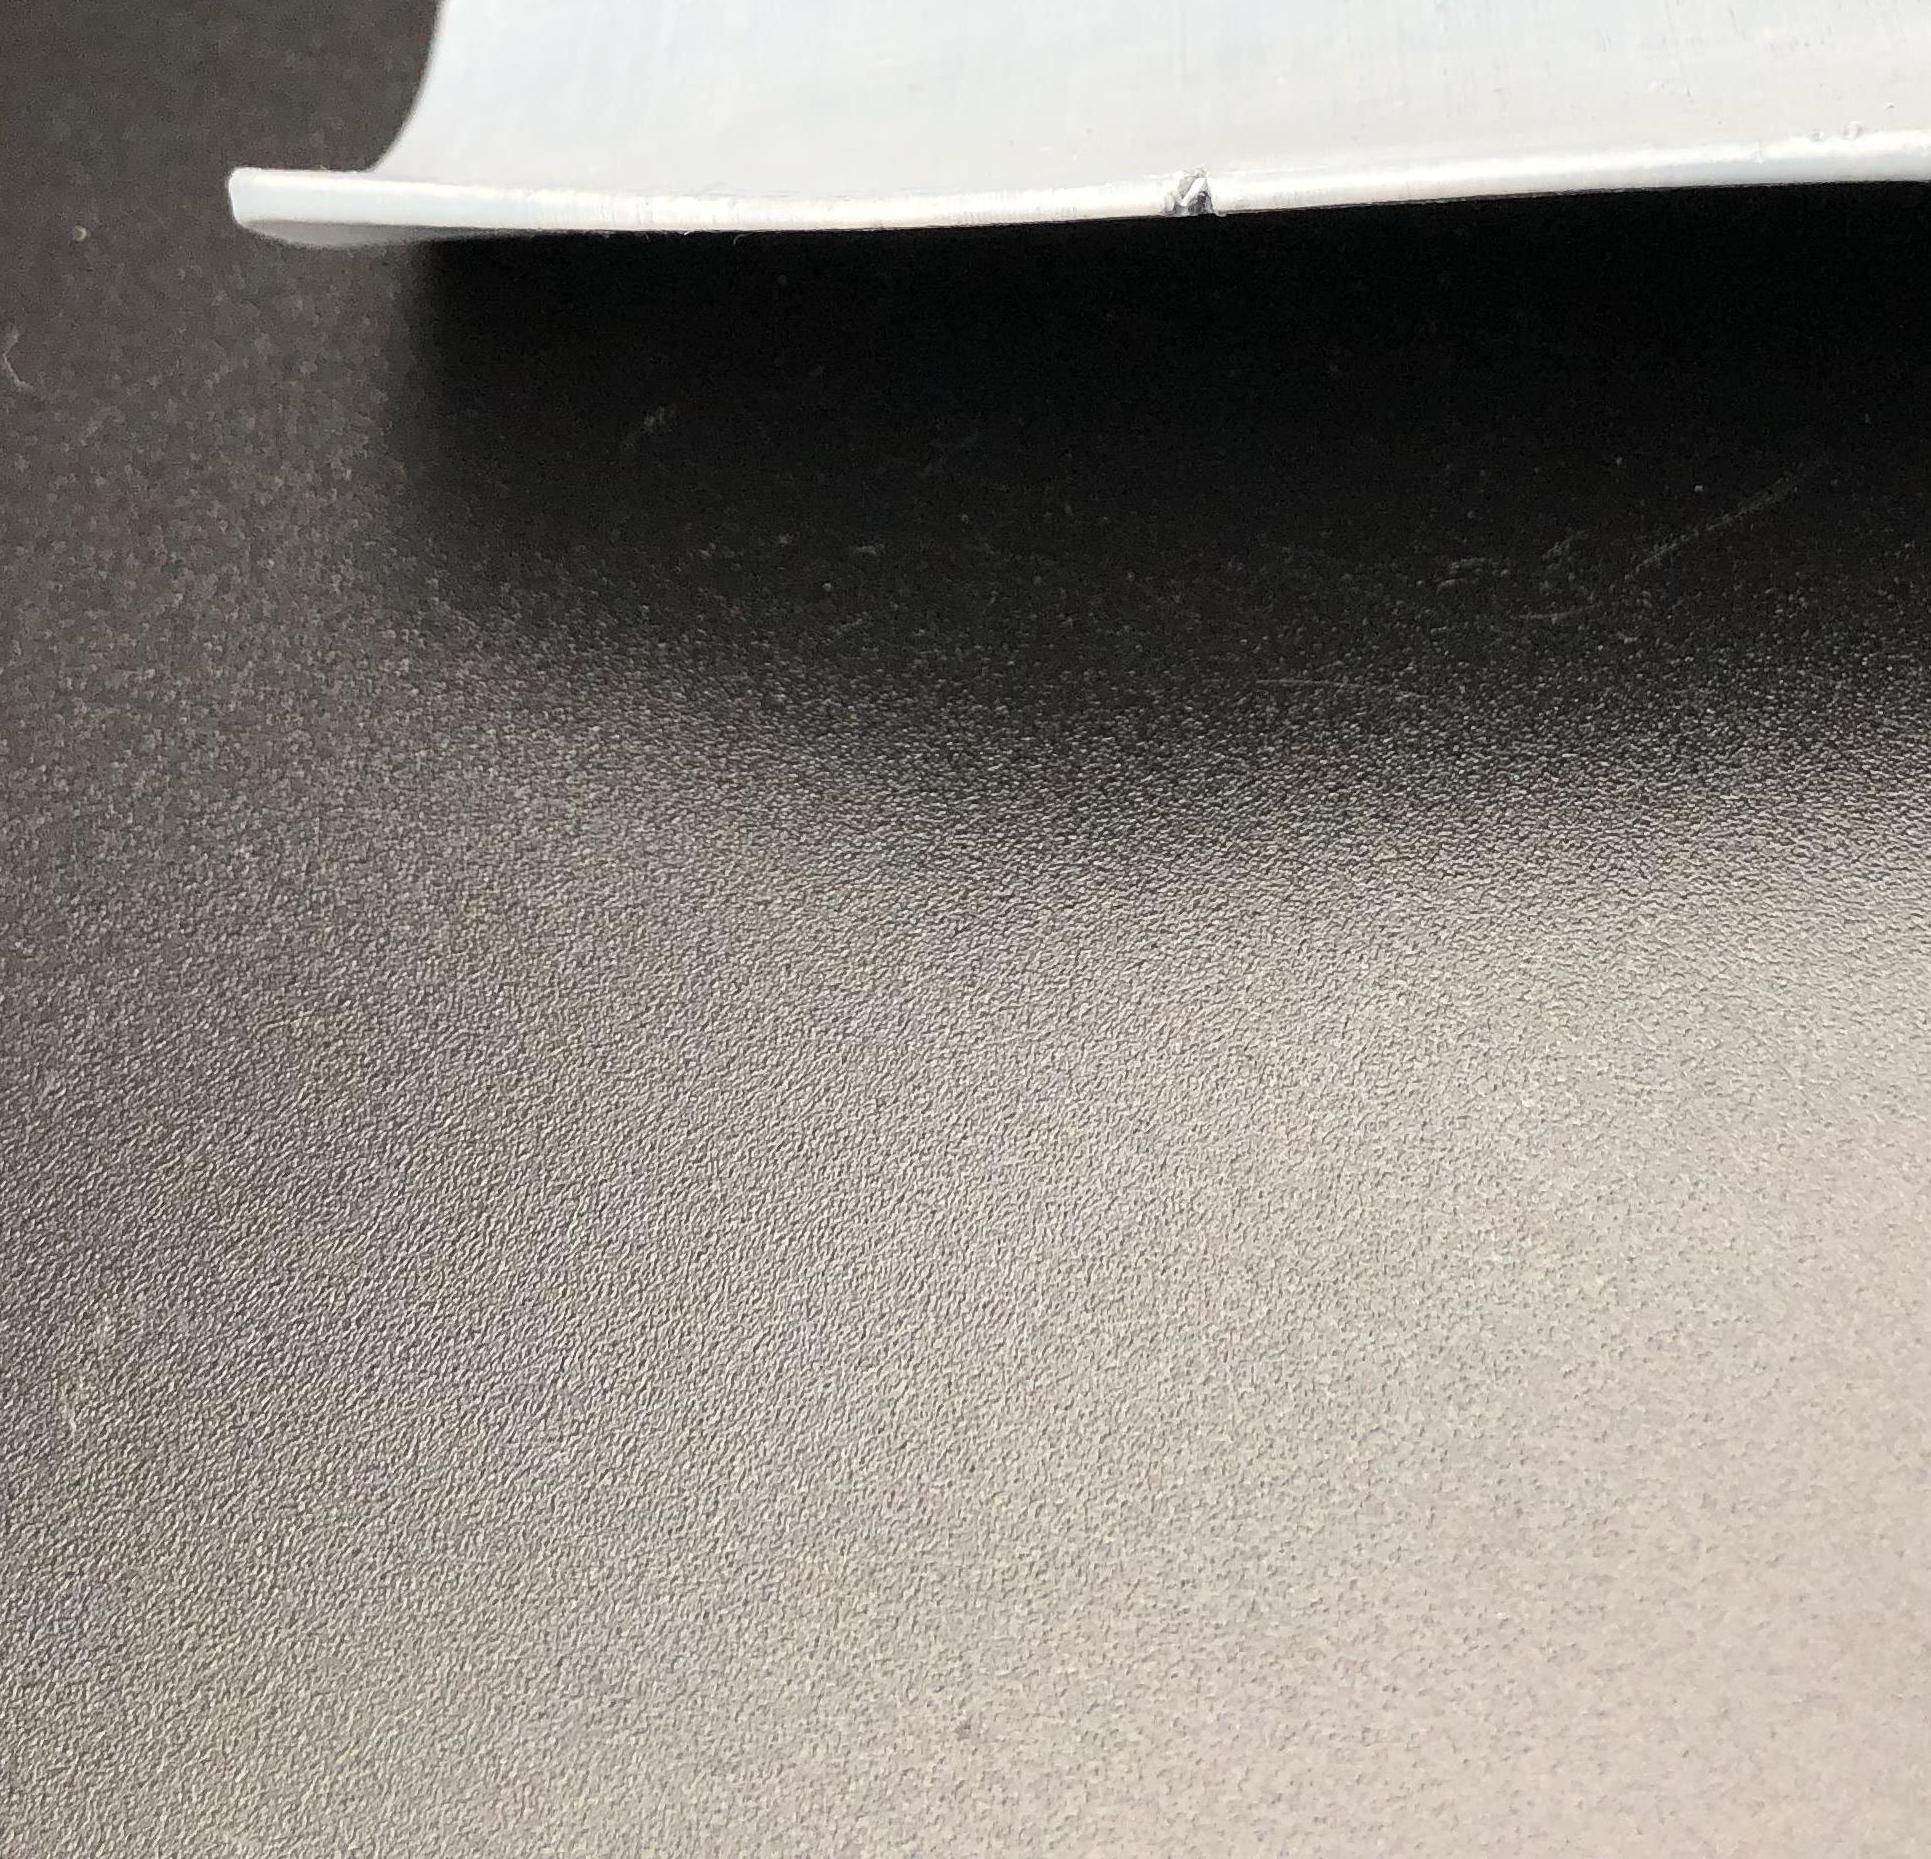groove: (1159, 159, 1238, 221)
